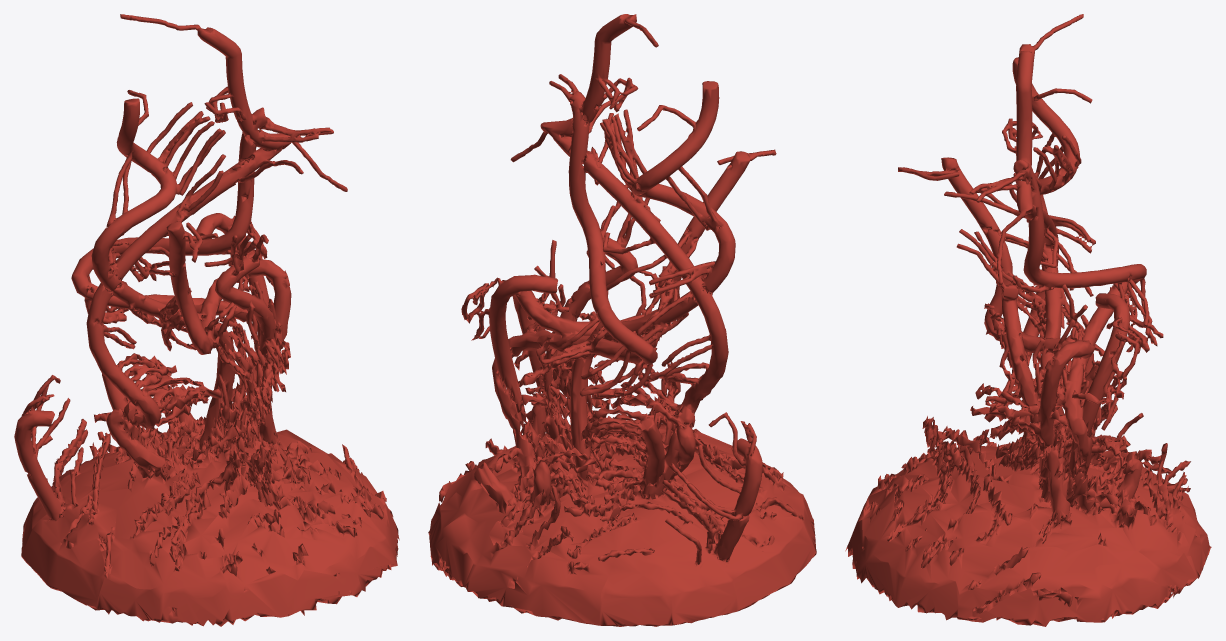
Rendered from sm_plant.glb.
3 views of the same model, side by side, from view 1: azimuth 30°, elevation 25°; view 2: azimuth 150°, elevation 25°; view 3: azimuth 270°, elevation 25° (orthographic). The views are drawn at different scales.
Parts seen in each view (by area): view 1: Plant.001; view 2: Plant.001; view 3: Plant.001.
Part boxes in pixels (x1,y1,x2,y2): Plant.001: (14, 14, 399, 626); Plant.001: (428, 14, 816, 626); Plant.001: (845, 14, 1211, 626).
Size of the model in its own units: 1.35 by 2.13 by 1.35.
